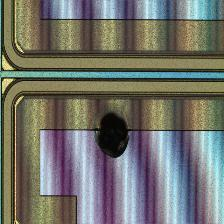PARTICLE: (92, 109, 135, 162)
